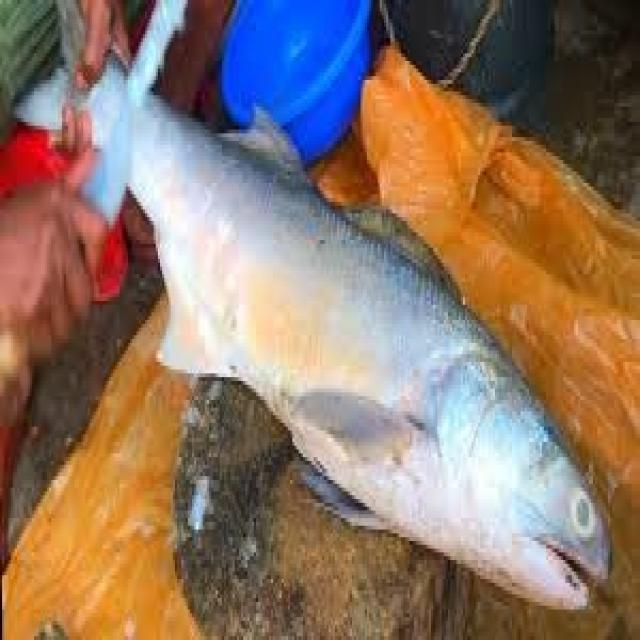Fourfinger-Threadfin: (6, 0, 616, 624)
